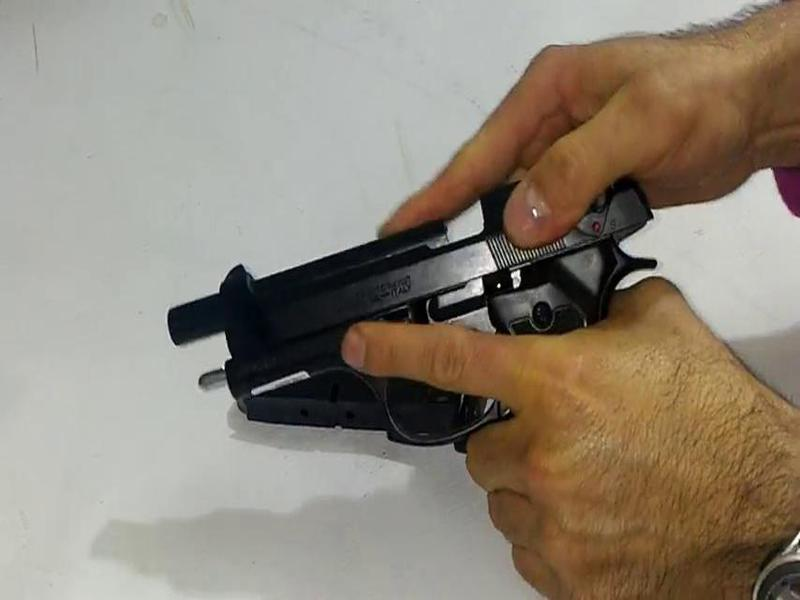Pistola: (151, 147, 676, 502)
